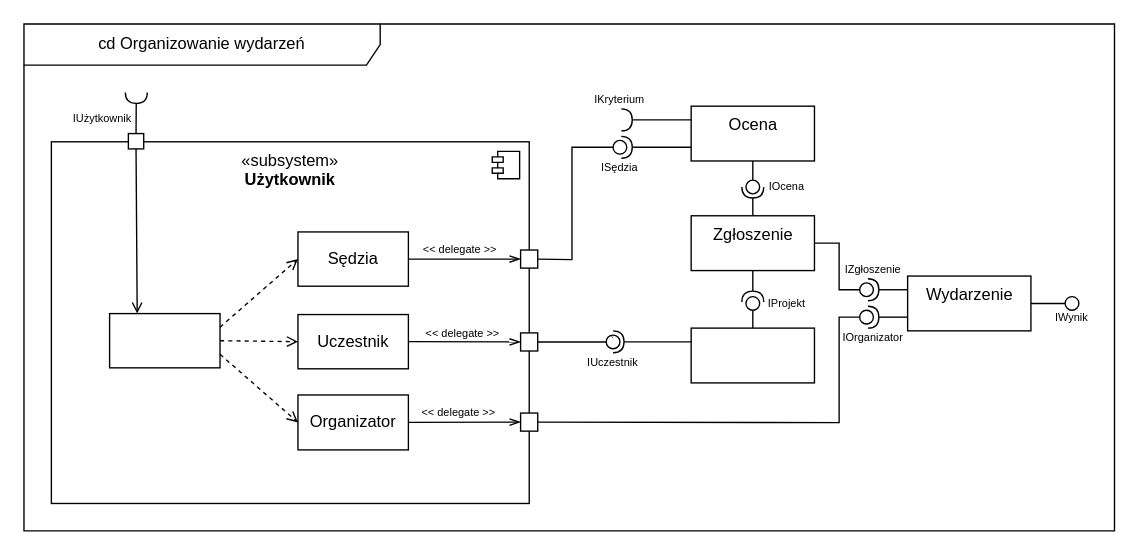
This 1138x555 diagram has some shape labels left out. The shapes that lost their labels are listed below. From the top down, each one's centre as x and y in pixels, then its label:
At point (164, 340): "Użytkownik".
At point (752, 355): "Projekt".
